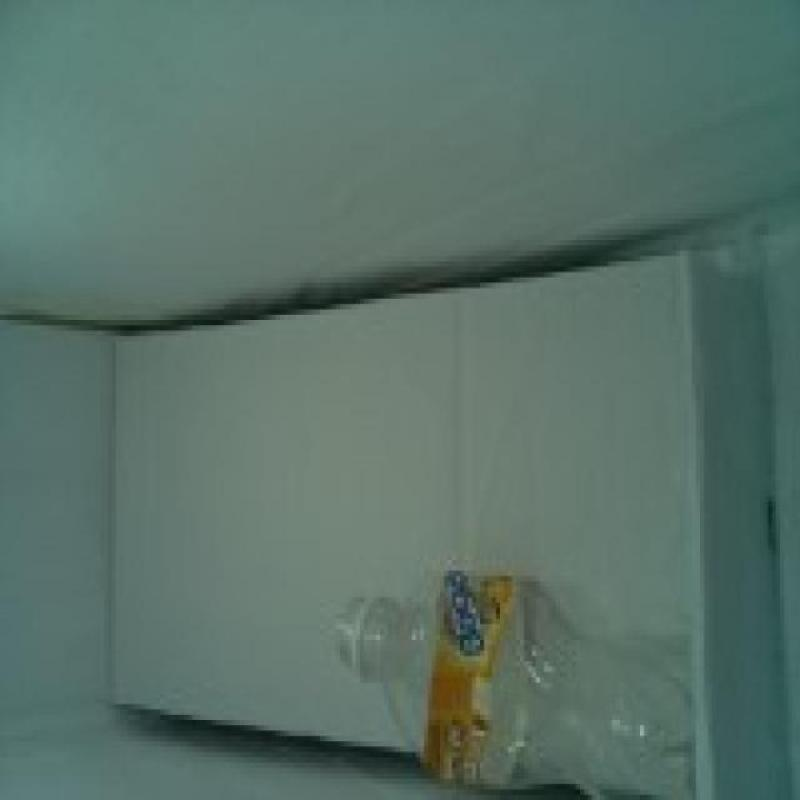botella: (337, 571, 695, 800)
